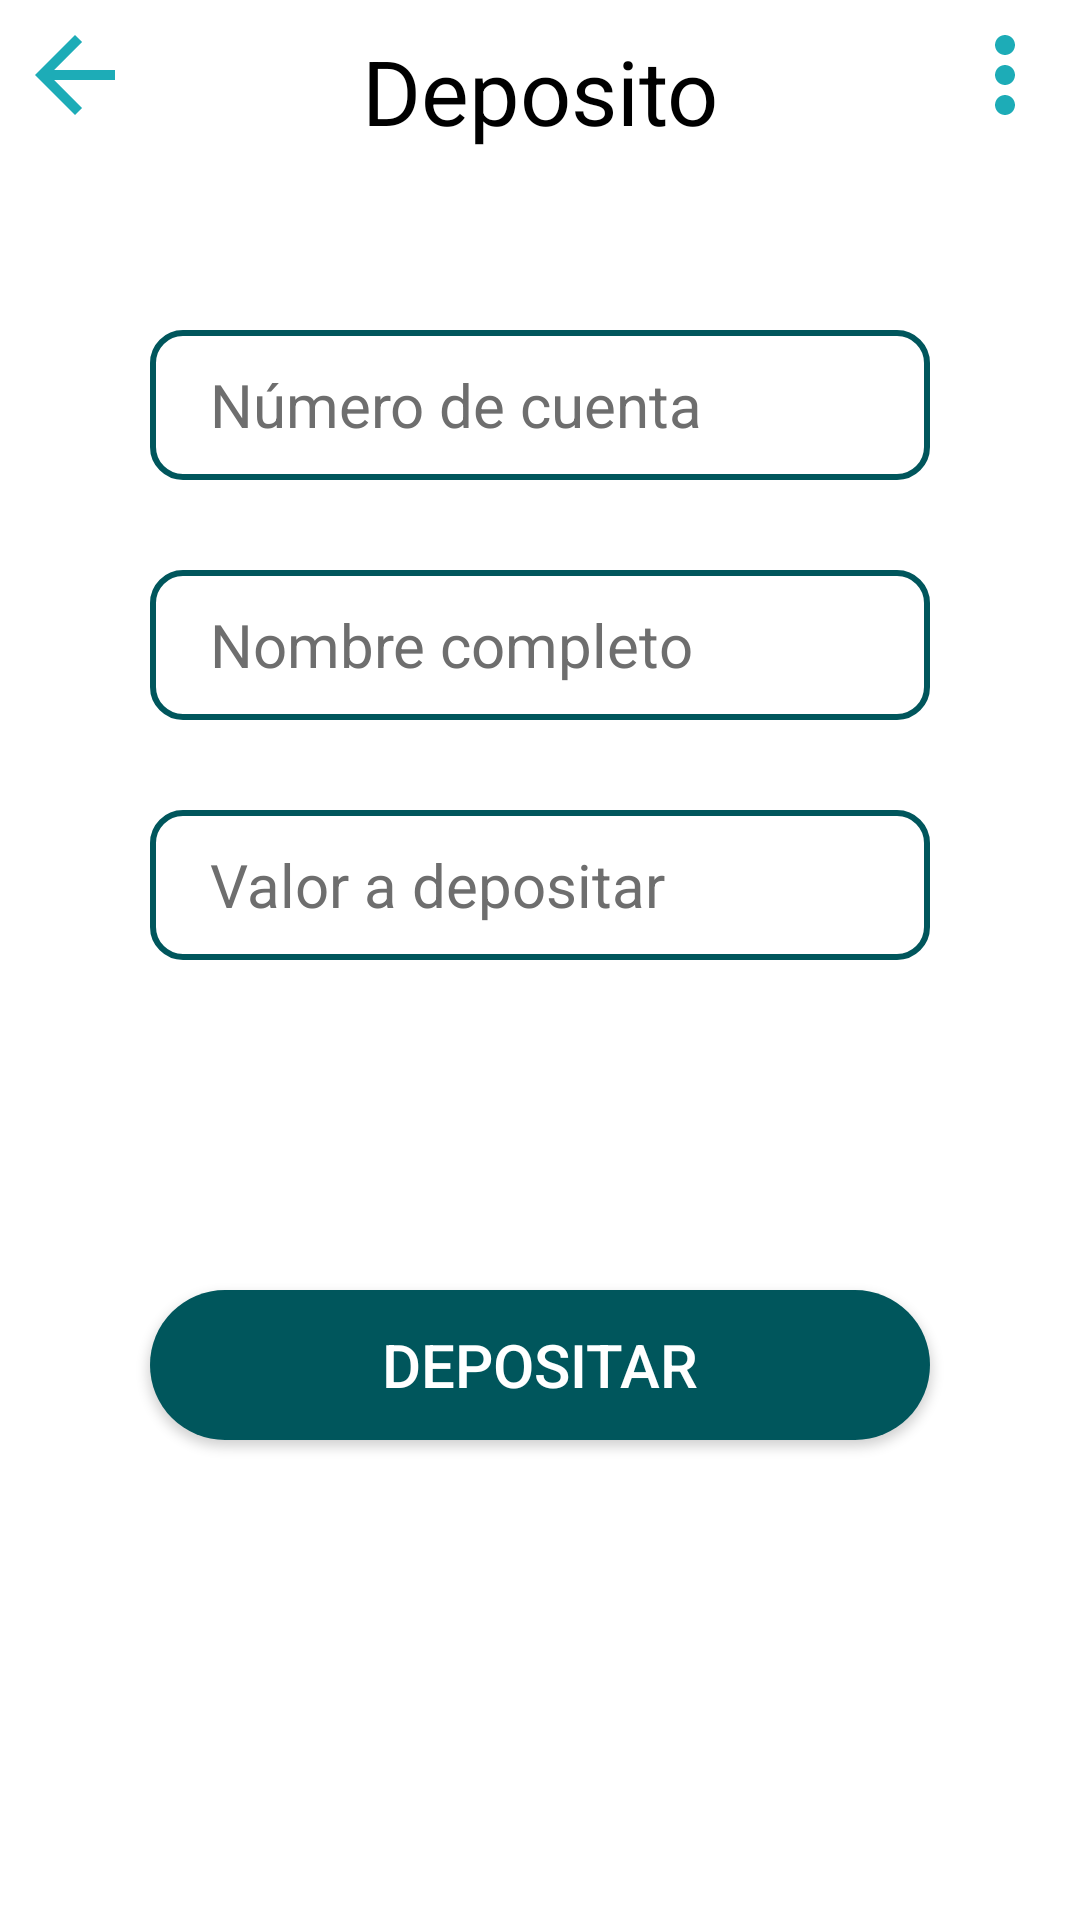

Icon bounding boxes for this 1080w x 1920h phone screenshot, format rect(x1, y1, x2, y2):
arrow: rect(35, 35, 115, 115)
points: rect(995, 35, 1015, 115)
